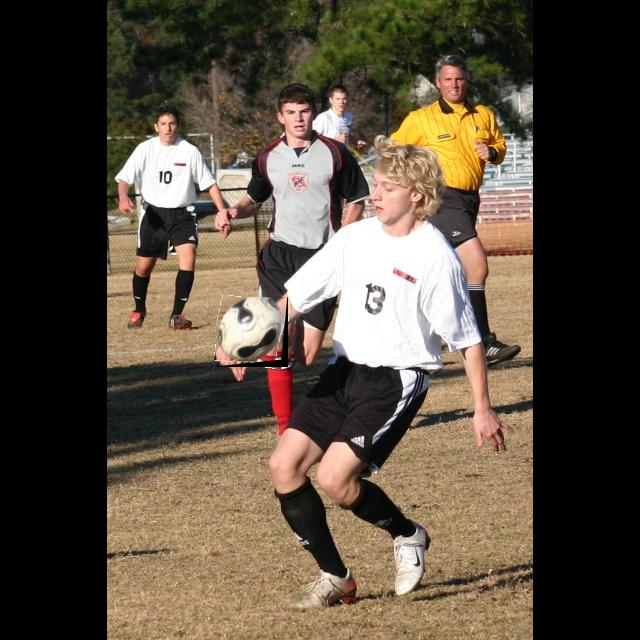Football: (216, 297, 288, 367)
